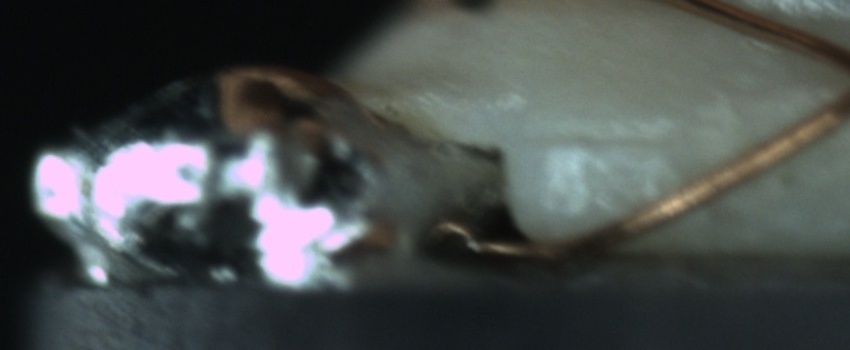DL: (534, 105, 680, 174)
TE: (209, 65, 344, 132)
